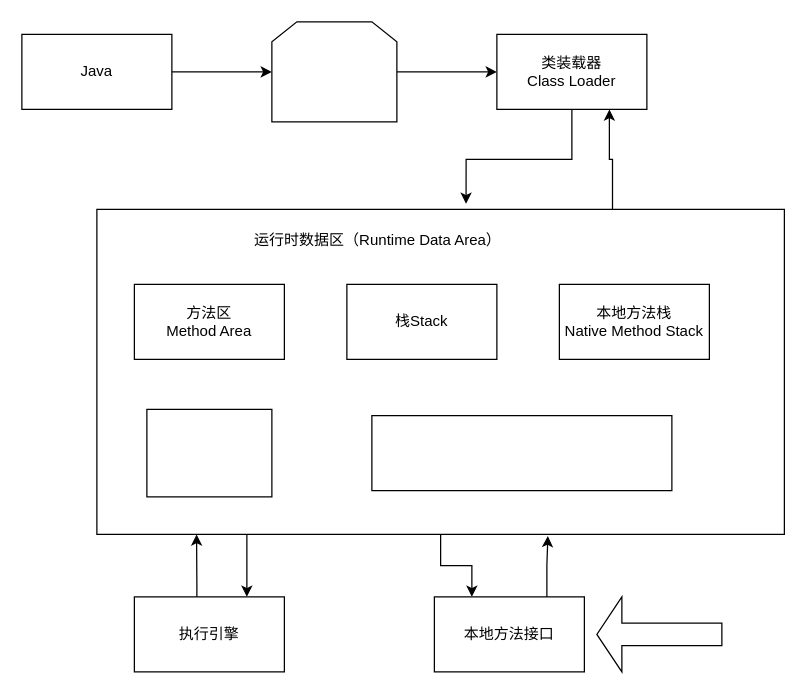
This 806x694 diagram has some shape labels left out. The shapes that lost their labels are listed below. From the top down, each one's box as (x1, y1, x2, y2) in pixels, then its label:
(271, 21, 397, 122): Class FIle
(146, 408, 272, 497): 堆 Heap
(371, 414, 672, 491): 程序计数器
(596, 596, 722, 672): 本地方法库
